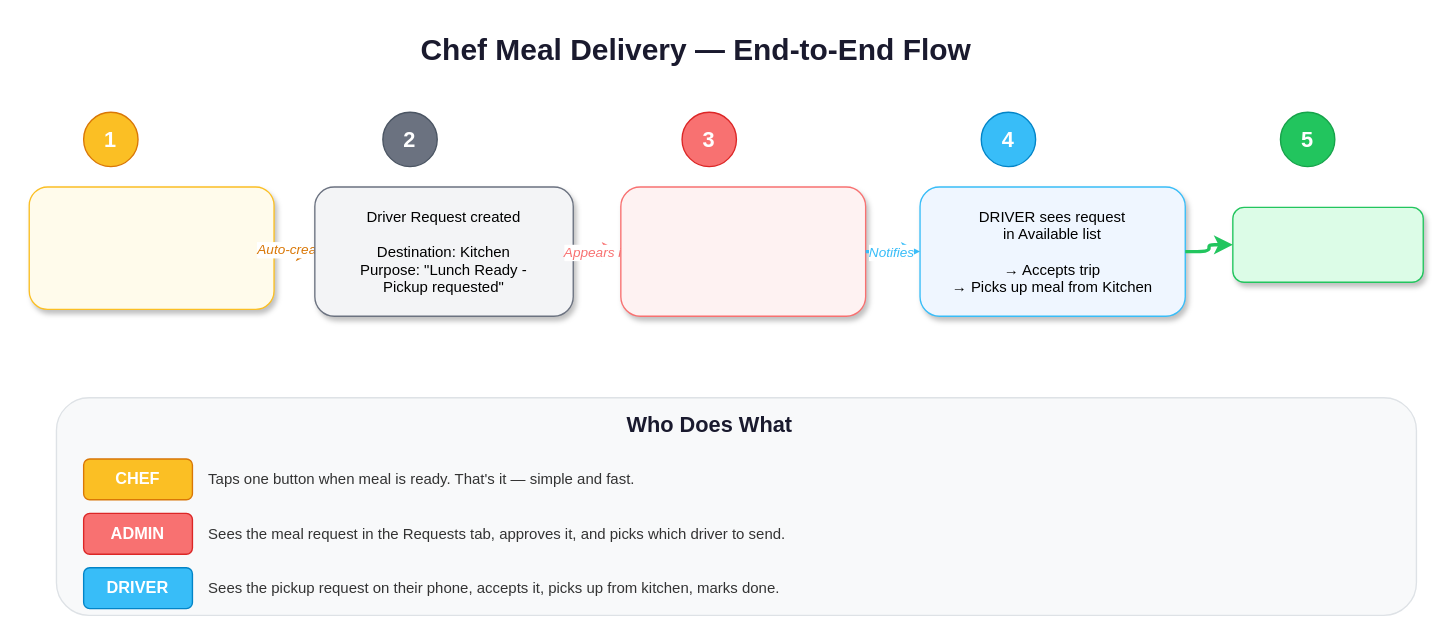
This 1455x639 diagram has some shape labels left out. Here are the shapes that lost their labels. From the top down, the centre of each, then its label:
At (152,249): "CHEF taps 🍳 Breakfast Ready 🍲 Lunch Ready 🍽️ Dinner Ready".
At (744,253): "ADMIN sees request in Driver Requests tab → Approves → Assigns a Driver".
At (1328,246): "DRIVER marks trip Complete ✓".
